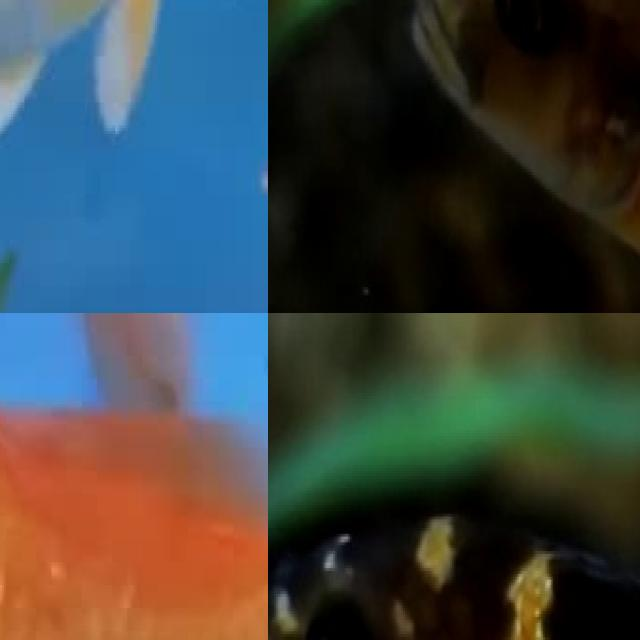fish: (0, 0, 268, 313), (406, 0, 640, 313)
